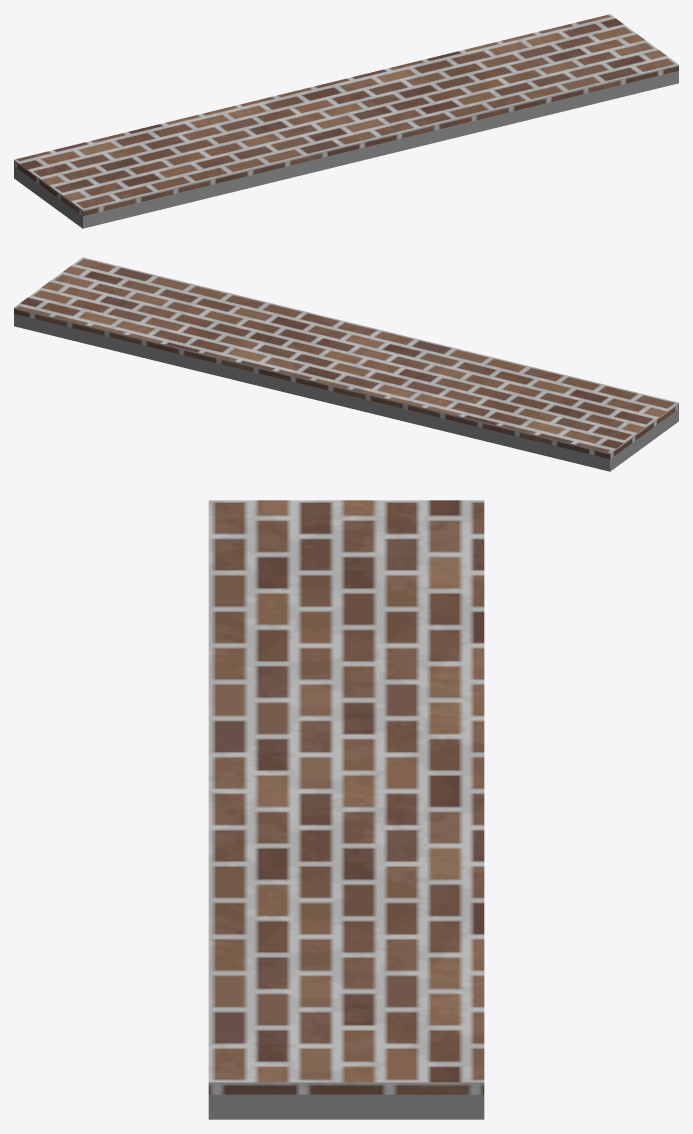
Rendered from Normal_Floor_003.FBX.
3 renders of one model, top to bottom at view 1: azimuth 30°, elevation 25°; view 2: azimuth 150°, elevation 25°; view 3: azimuth 270°, elevation 25°, orthographic. The views are drawn at different scales.
Parts seen in each view (by area): view 1: Normal_Floor_003; view 2: Normal_Floor_003; view 3: Normal_Floor_003.
Part boxes in pixels (box(x1,y1,x2,y2)): Normal_Floor_003: box(14, 14, 678, 228); Normal_Floor_003: box(14, 257, 678, 471); Normal_Floor_003: box(208, 500, 484, 1119).
Size of the model in its own units: 500 by 100 by 15.
